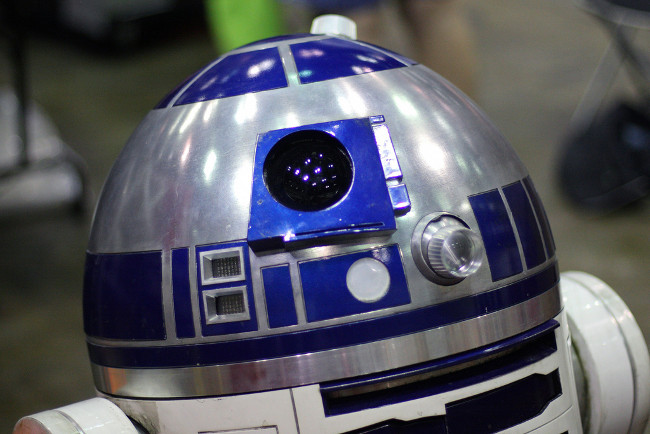r2d2: (12, 18, 643, 433)
